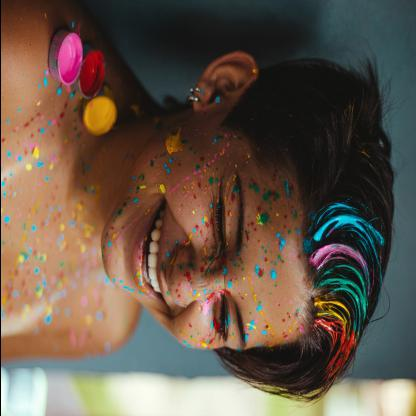Eye: (210, 282, 236, 352), (209, 179, 233, 254)
Mouth: (131, 200, 171, 310)
Nose: (160, 242, 219, 310)
